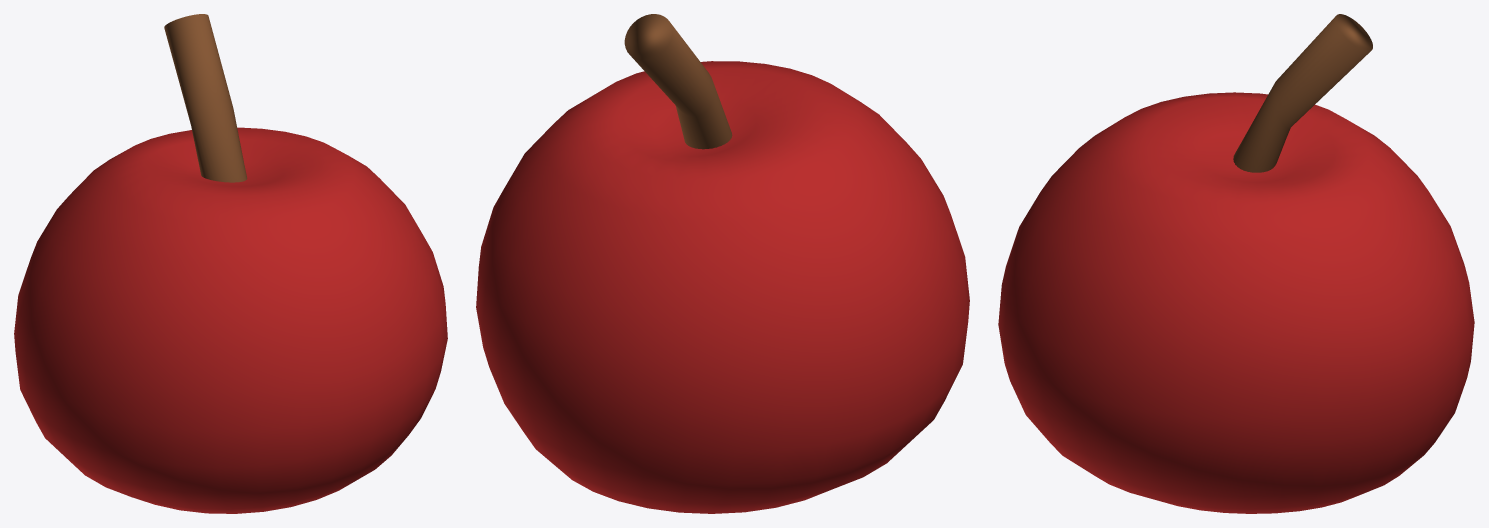
The model's file is apple.fbx.
The picture shows the model from 3 angles, left to right: view 1: azimuth 30°, elevation 25°; view 2: azimuth 150°, elevation 25°; view 3: azimuth 270°, elevation 25°; orthographic projection. The views are drawn at different scales.
Visible parts, largest first — view 1: Cylinder; view 2: Cylinder; view 3: Cylinder.
Part boxes in pixels (<box>): Cylinder: <box>14,14,447,513</box>; Cylinder: <box>476,14,969,513</box>; Cylinder: <box>998,14,1474,513</box>.
Size of the model in its own units: 197 by 214 by 200.
